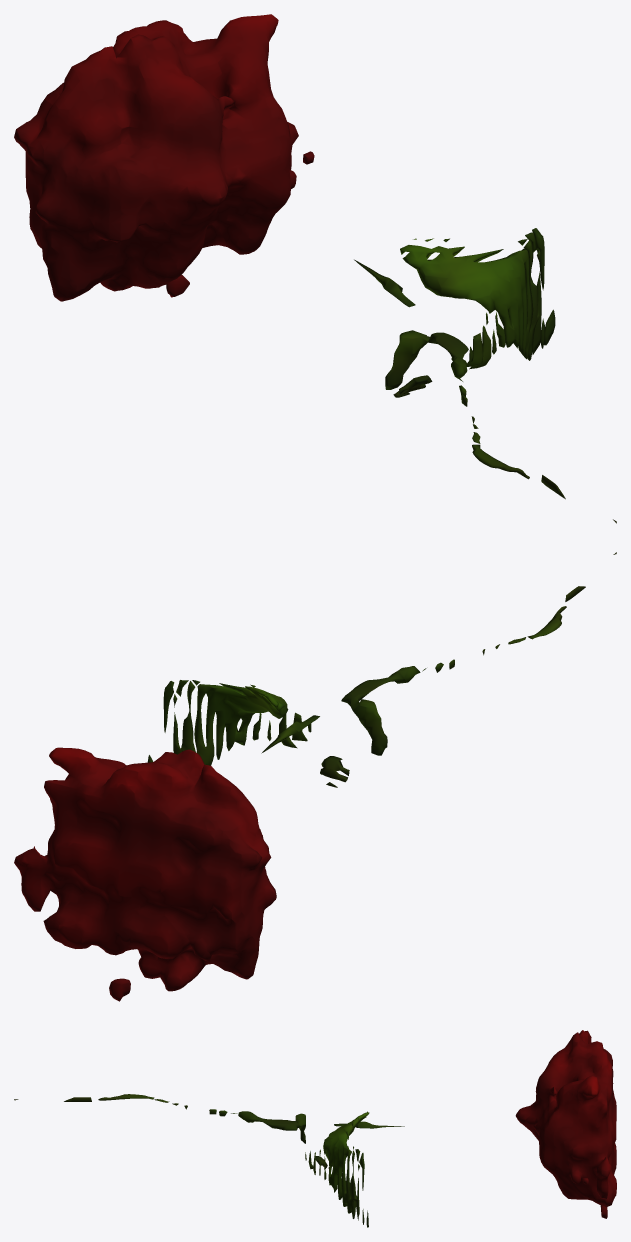
Rendered from Red_Rose.FBX.
3 views of the same model, one above another, from view 1: azimuth 30°, elevation 25°; view 2: azimuth 150°, elevation 25°; view 3: azimuth 270°, elevation 25° (orthographic). The views are drawn at different scales.
Visible parts, largest first — view 1: plyFile; view 2: plyFile; view 3: plyFile.
Part boxes in pixels (x1=…): plyFile: x1=14, y1=14, x2=616, y2=523; plyFile: x1=14, y1=552, x2=616, y2=1001; plyFile: x1=14, y1=1030, x2=616, y2=1227.
Bounding box in the file's own units: 72.19 × 60.54 × 196.
